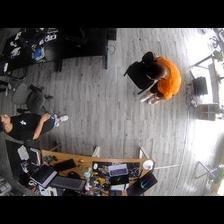normal: (124, 49, 183, 110), (1, 105, 73, 143)
